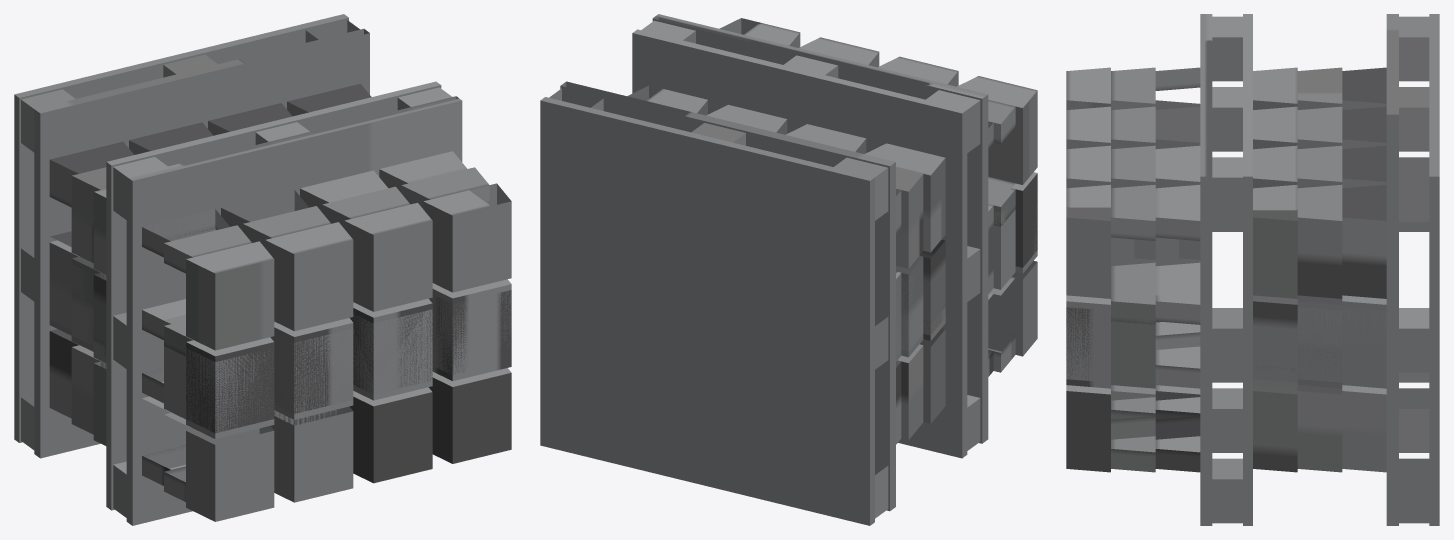
3 views of the same model, side by side, from view 1: azimuth 30°, elevation 25°; view 2: azimuth 150°, elevation 25°; view 3: azimuth 270°, elevation 25° (orthographic).
Size of the model in its own units: 0.95 by 0.95 by 0.92.
